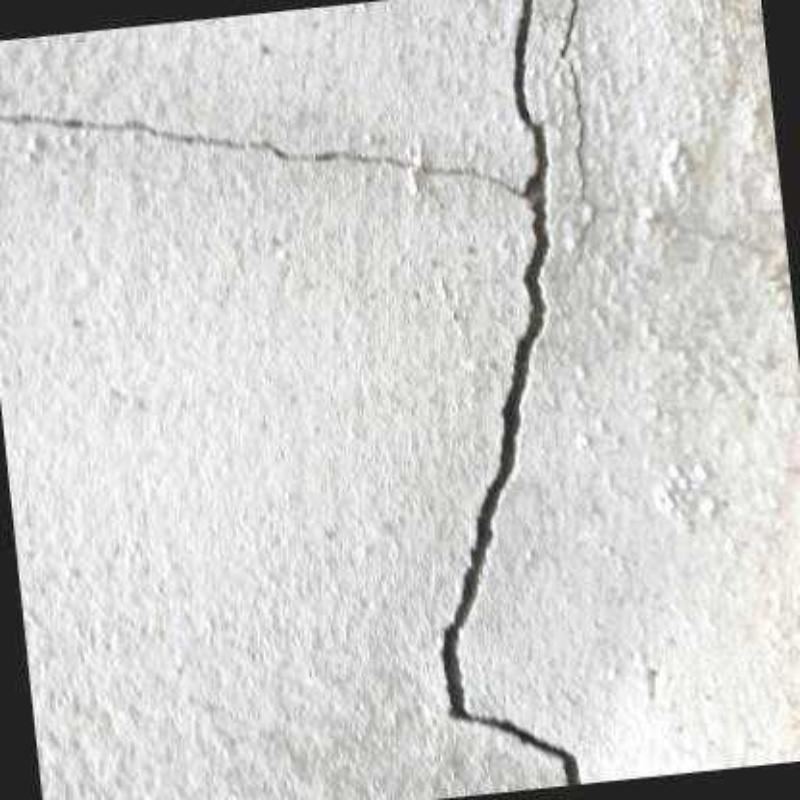pothole: (443, 1, 581, 784), (558, 0, 767, 281), (0, 110, 525, 196)
